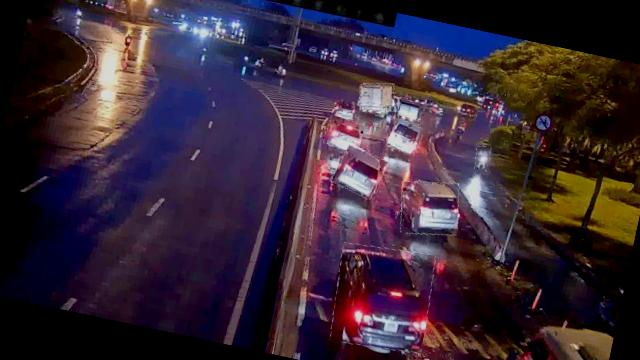Bike: (472, 145, 492, 171)
Bus: (386, 118, 424, 156)
Car: (326, 238, 440, 357), (394, 174, 464, 241), (331, 144, 388, 200), (323, 115, 365, 153)
Truck: (356, 78, 398, 115)
